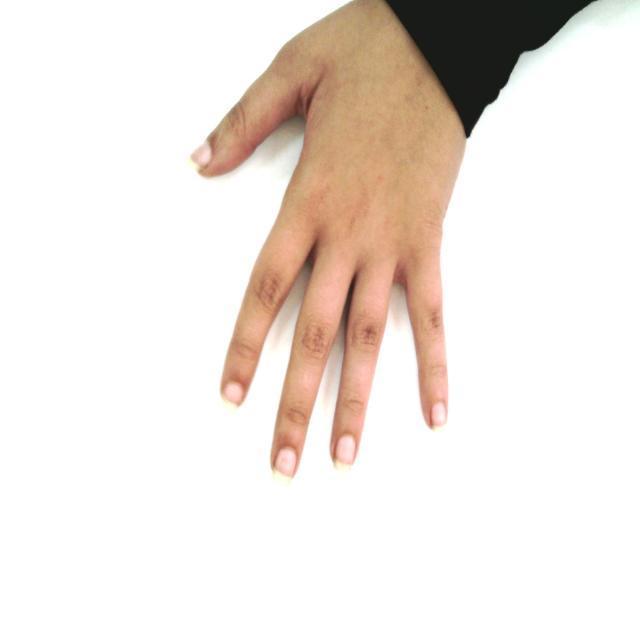Fingernail: (275, 448, 296, 483), (336, 434, 355, 468), (191, 143, 211, 167), (223, 383, 242, 407), (432, 403, 446, 429)
